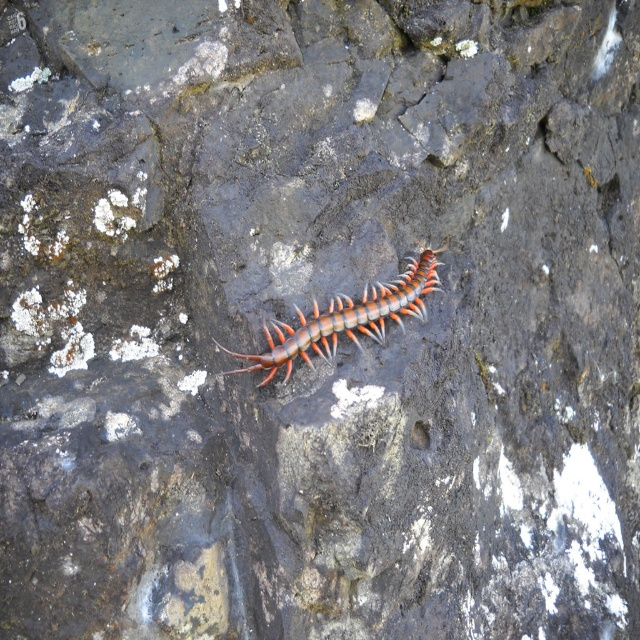Centipede: (212, 242, 444, 391)
